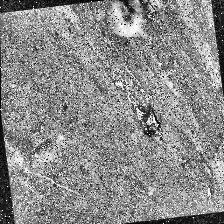pothole: (134, 104, 162, 140)
